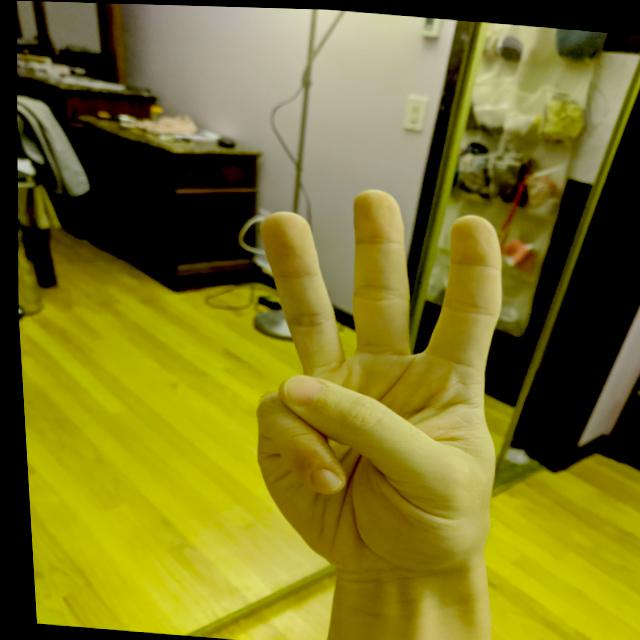W: (223, 173, 526, 590)
